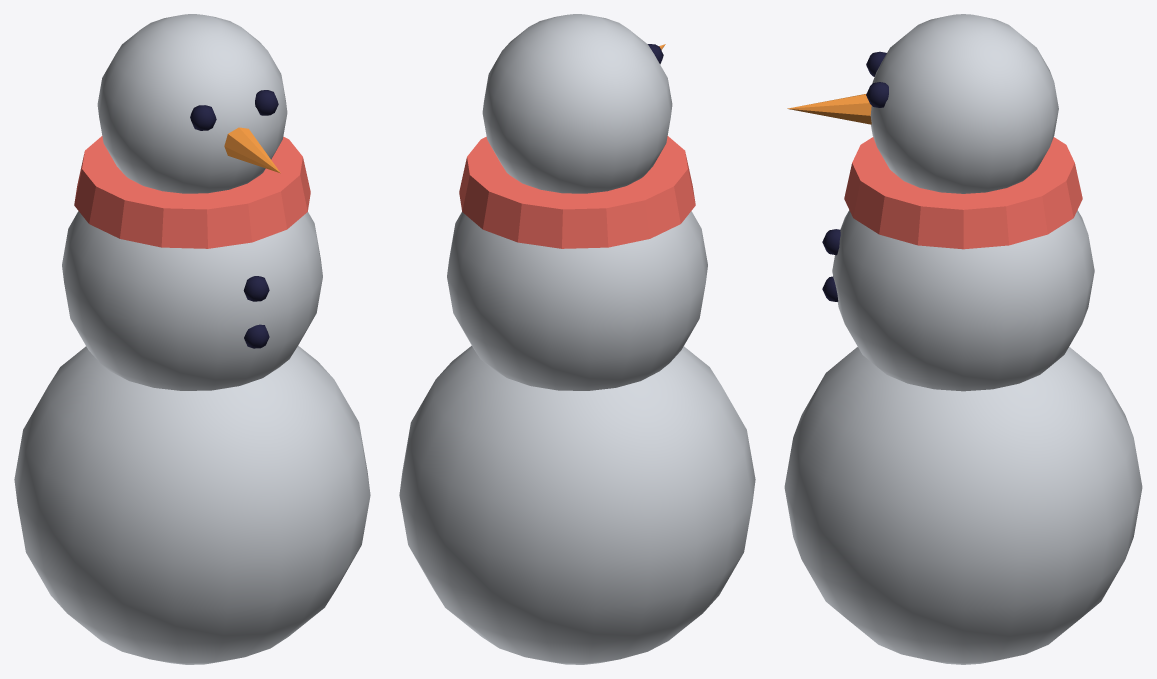
The model's file is Prop_Snow_Snowman.fbx.
The picture shows the model from 3 angles, left to right: view 1: azimuth 30°, elevation 25°; view 2: azimuth 150°, elevation 25°; view 3: azimuth 270°, elevation 25°; orthographic projection.
Visible parts, largest first — view 1: Prop_Snow_Snowman; view 2: Prop_Snow_Snowman; view 3: Prop_Snow_Snowman.
Boxes of the visible parts, <box> form: Prop_Snow_Snowman: <box>14,14,370,664</box>; Prop_Snow_Snowman: <box>399,14,755,664</box>; Prop_Snow_Snowman: <box>784,14,1142,664</box>.
Bounding box in the file's own units: 0.9 × 1.74 × 0.9.
